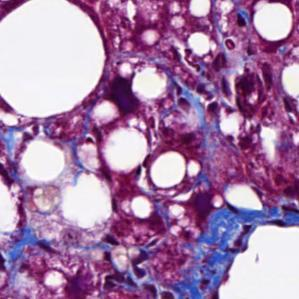inflammation: (193, 66, 258, 119), (174, 187, 216, 232), (208, 37, 241, 70)
